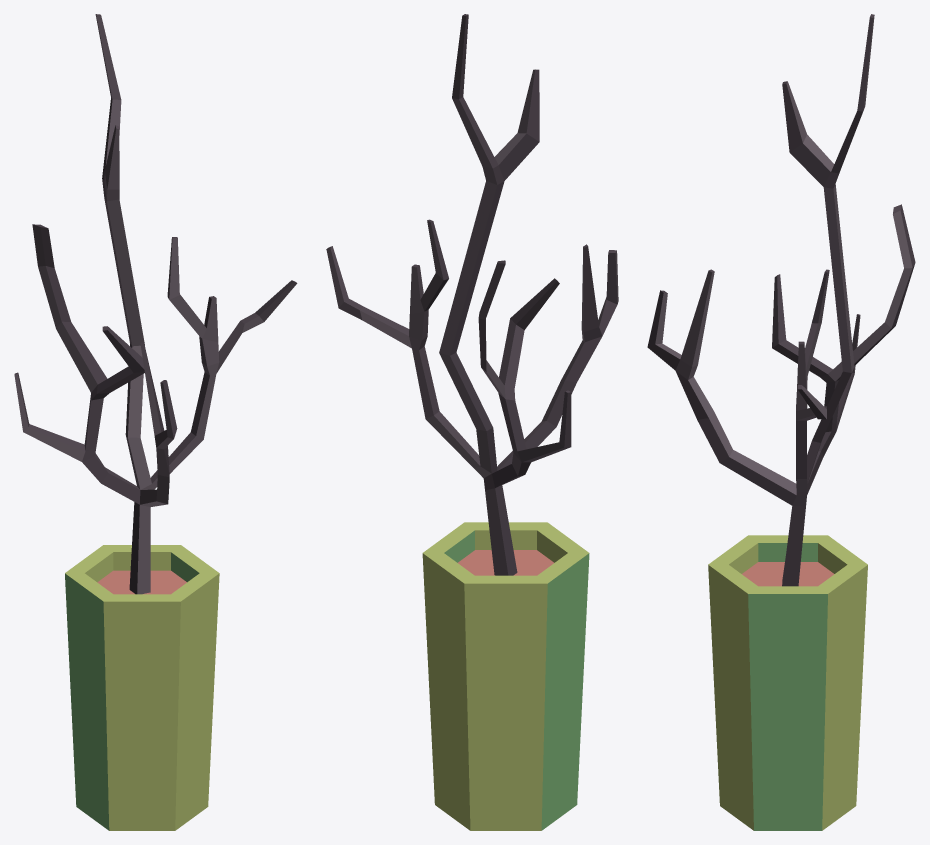
File: Tree Branches Deco.fbx
3 views of the same model, side by side, from view 1: azimuth 30°, elevation 25°; view 2: azimuth 150°, elevation 25°; view 3: azimuth 270°, elevation 25° (orthographic). The views are drawn at different scales.
Parts seen in each view (by area): view 1: Tree Branches Deco; view 2: Tree Branches Deco; view 3: Tree Branches Deco.
Part boxes in pixels (x1=…): Tree Branches Deco: x1=14, y1=14, x2=297, y2=830; Tree Branches Deco: x1=326, y1=14, x2=618, y2=830; Tree Branches Deco: x1=647, y1=14, x2=915, y2=830.
Bounding box in the file's own units: 110 × 317 × 97.53.
